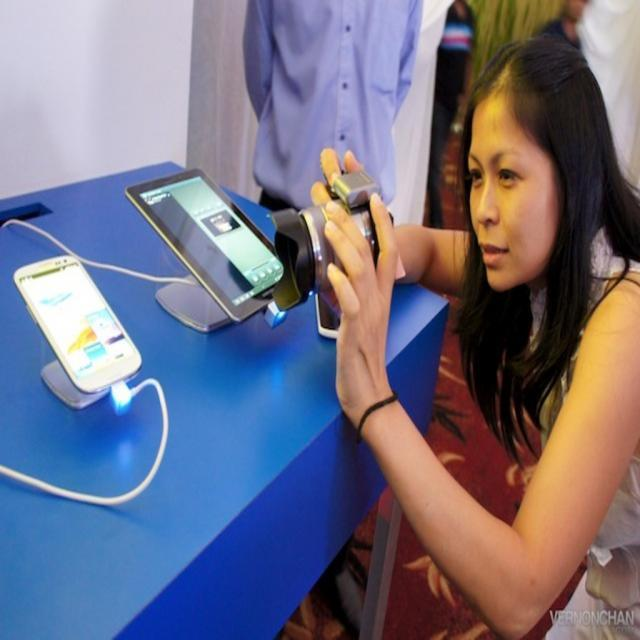Phone: (11, 253, 146, 396)
